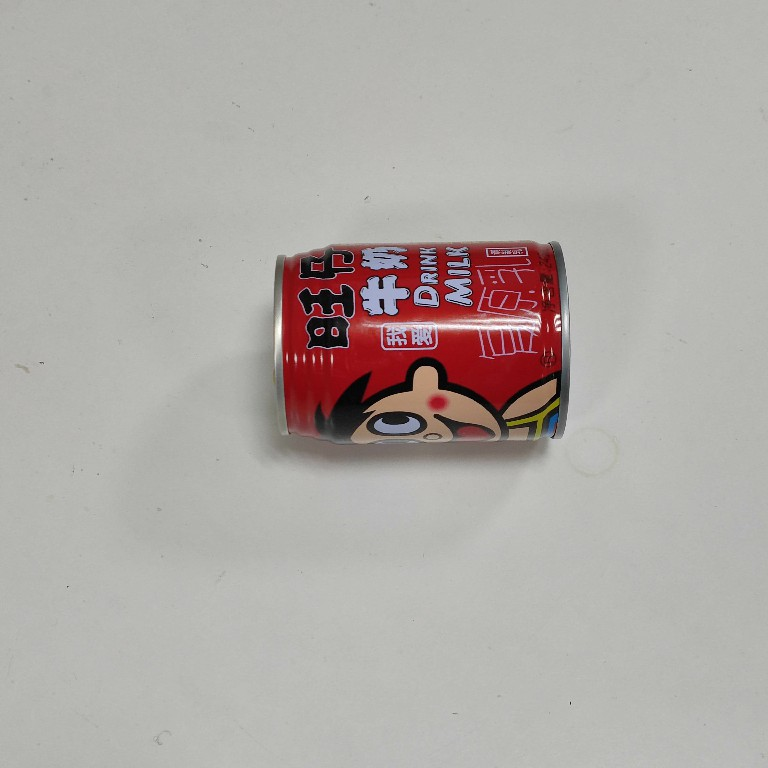can: (269, 237, 576, 448)
